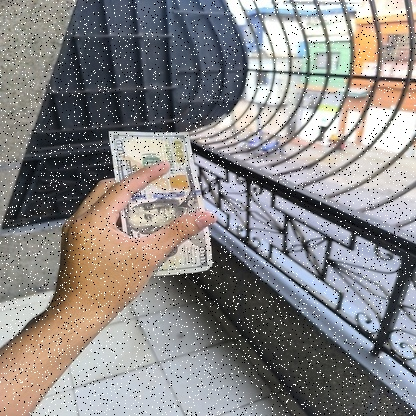one_hundred-front: (100, 126, 216, 287)
